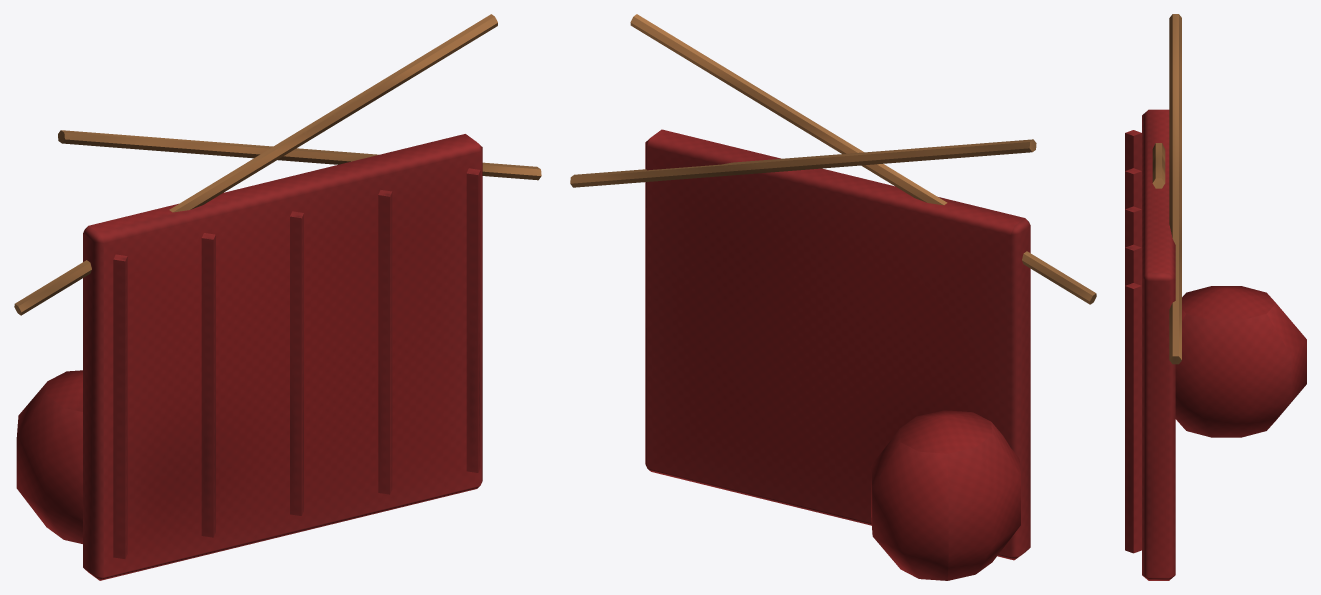
Rendered from Hold_Knitting.fbx.
The picture shows the model from 3 angles, left to right: view 1: azimuth 30°, elevation 25°; view 2: azimuth 150°, elevation 25°; view 3: azimuth 270°, elevation 25°; orthographic projection. The views are drawn at different scales.
Parts seen in each view (by area): view 1: Hold_Knitting; view 2: Hold_Knitting; view 3: Hold_Knitting.
Part boxes in pixels (box(x1,y1,x2,y2)): Hold_Knitting: box(14, 14, 541, 580); Hold_Knitting: box(570, 14, 1096, 580); Hold_Knitting: box(1125, 14, 1306, 580).
Size of the model in its own units: 0.3 by 0.25 by 0.1.
Materials: 1 (1 with a texture image).
